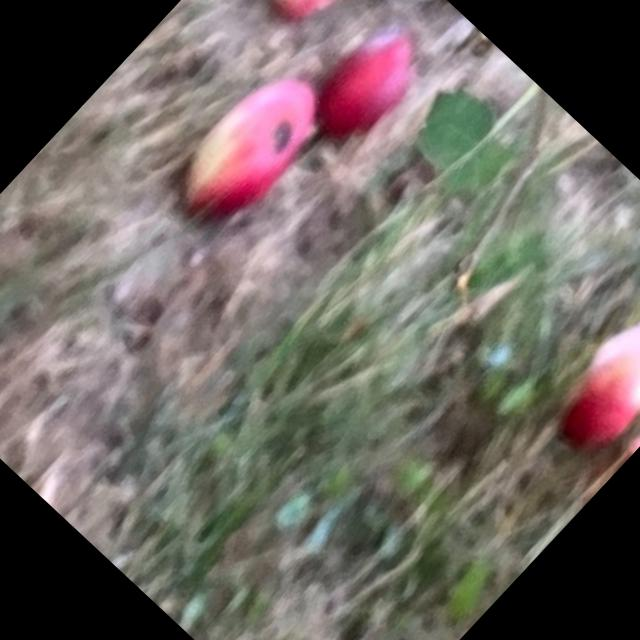Apples: (164, 62, 336, 237), (291, 20, 428, 160), (538, 307, 639, 465)
